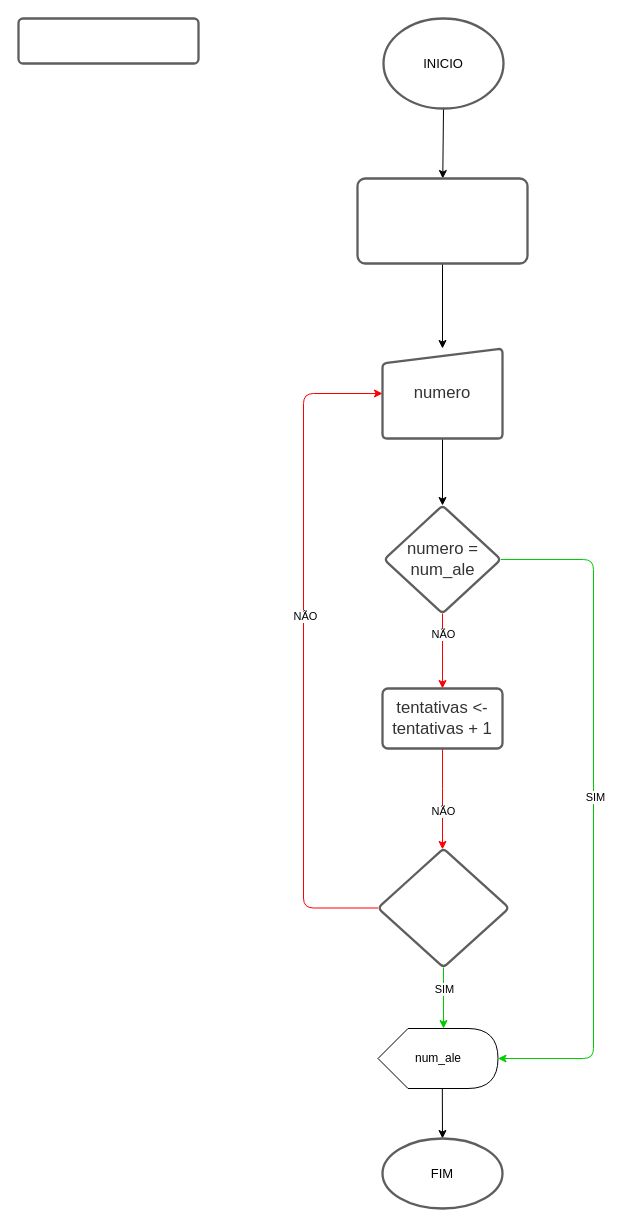
Some shapes in this 622 by 1227 pixel diagram are drawn without their labels. The shapes that lost their labels are listed below. From the top down, each one's centre as x and y in pixels, then its label:
the point at 108,40: QUESTÃO 05 - AdemarROV
the point at 442,220: tentativas <- 0 num_ale <- aleatorio 0,20
the point at 443,907: tentativas = 5
